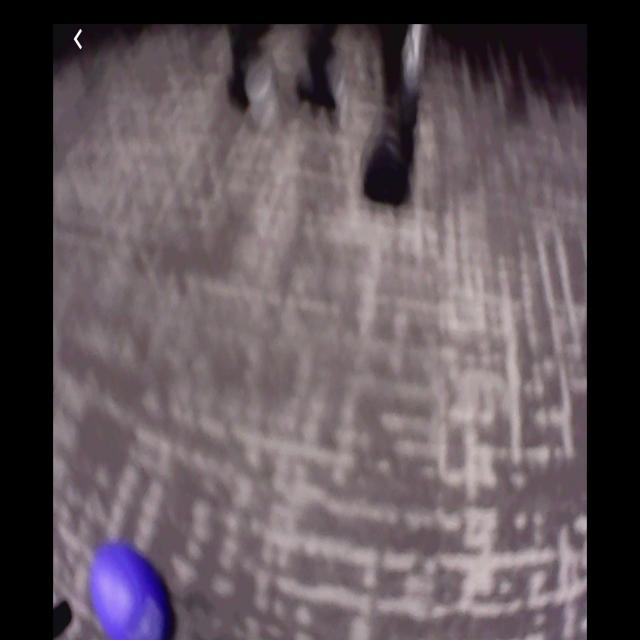ball: (89, 541, 178, 640)
